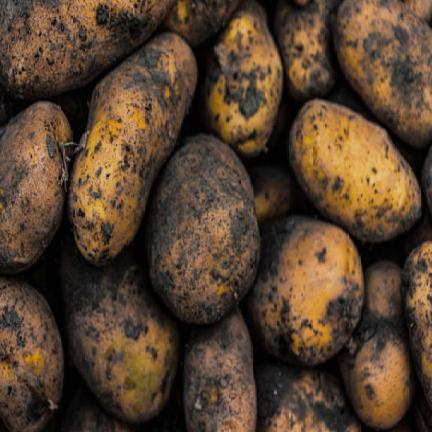potato: (68, 33, 197, 265), (60, 239, 178, 421), (146, 134, 259, 323), (289, 100, 421, 240), (248, 216, 364, 365), (0, 0, 173, 97), (334, 0, 431, 147), (200, 0, 282, 156), (338, 260, 414, 428), (0, 102, 71, 273), (0, 276, 63, 431), (184, 308, 256, 430), (256, 363, 361, 431), (275, 0, 340, 100), (402, 241, 431, 406), (164, 0, 239, 46), (61, 388, 132, 431), (249, 165, 299, 223), (54, 86, 91, 140), (402, 206, 431, 256), (0, 87, 15, 133), (421, 153, 432, 214), (402, 0, 431, 21)
